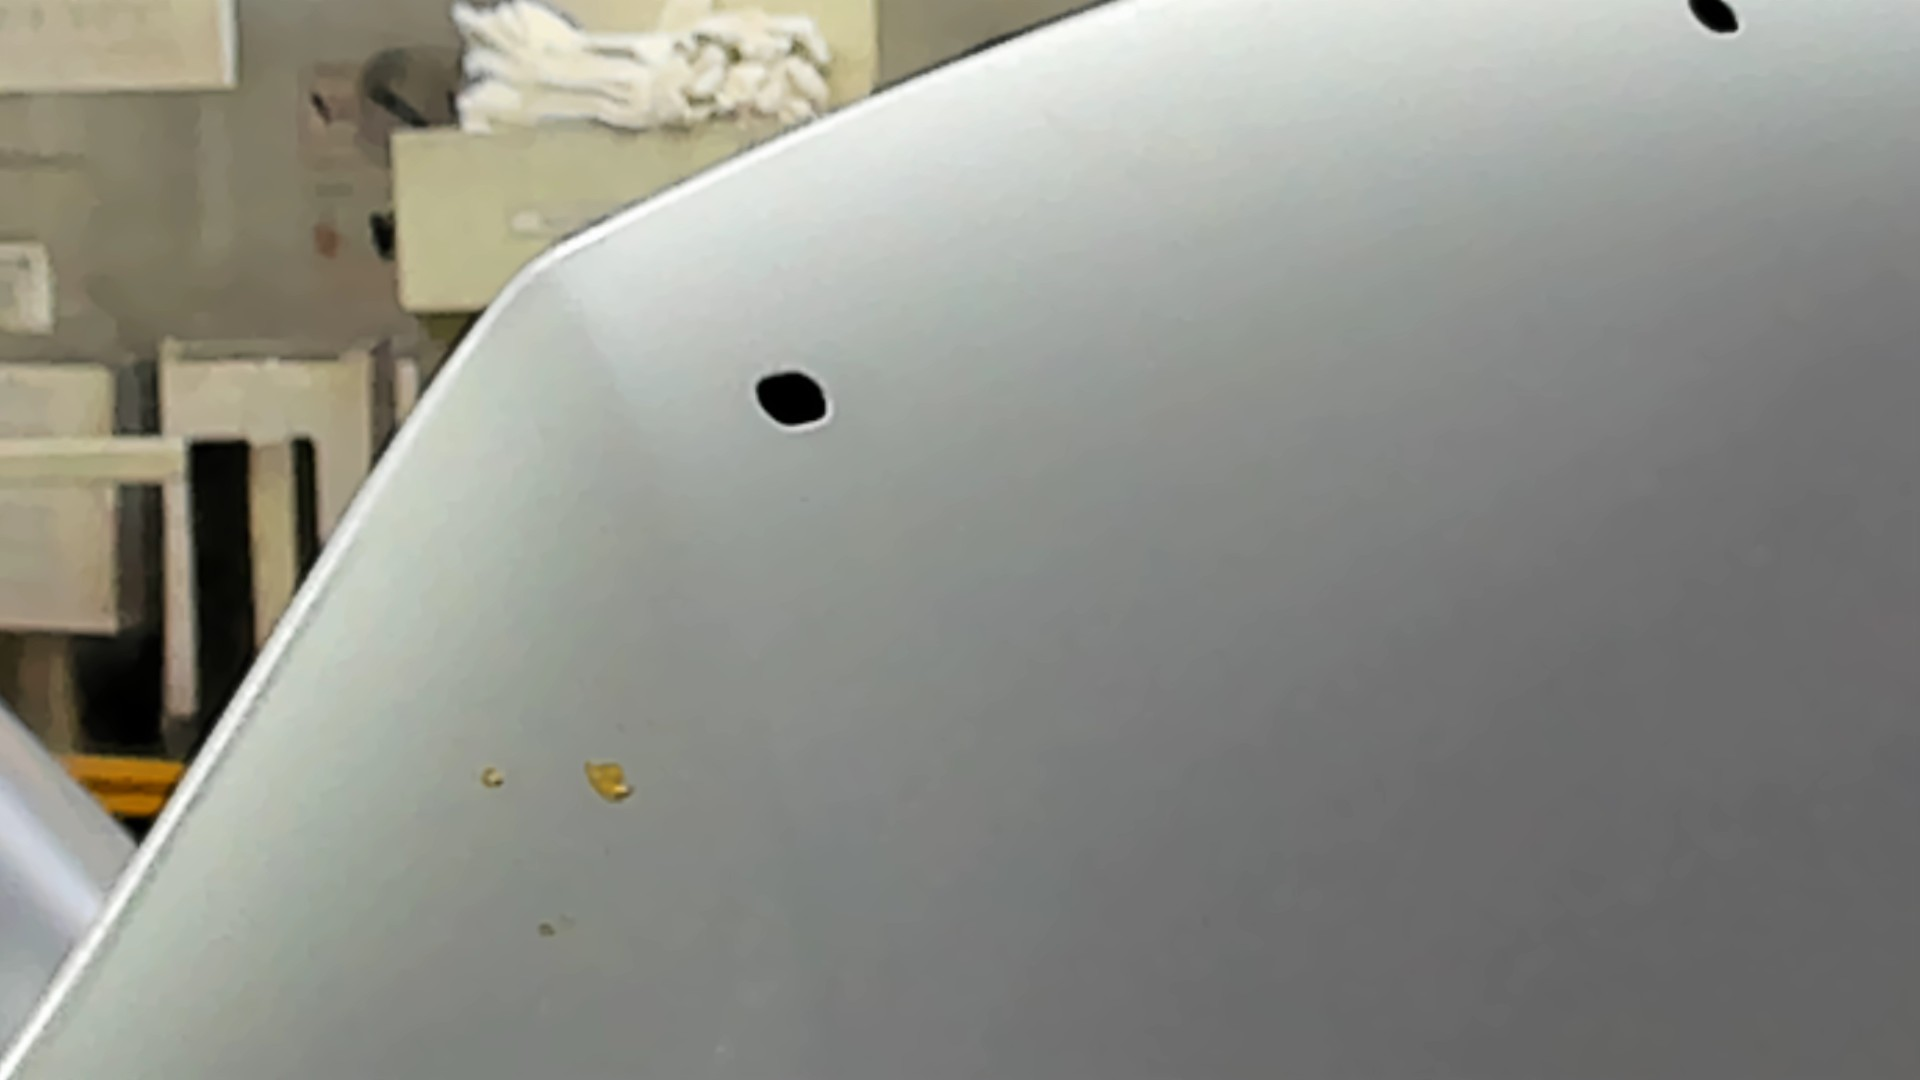amorfo: (752, 361, 836, 436), (1683, 1, 1745, 40)
